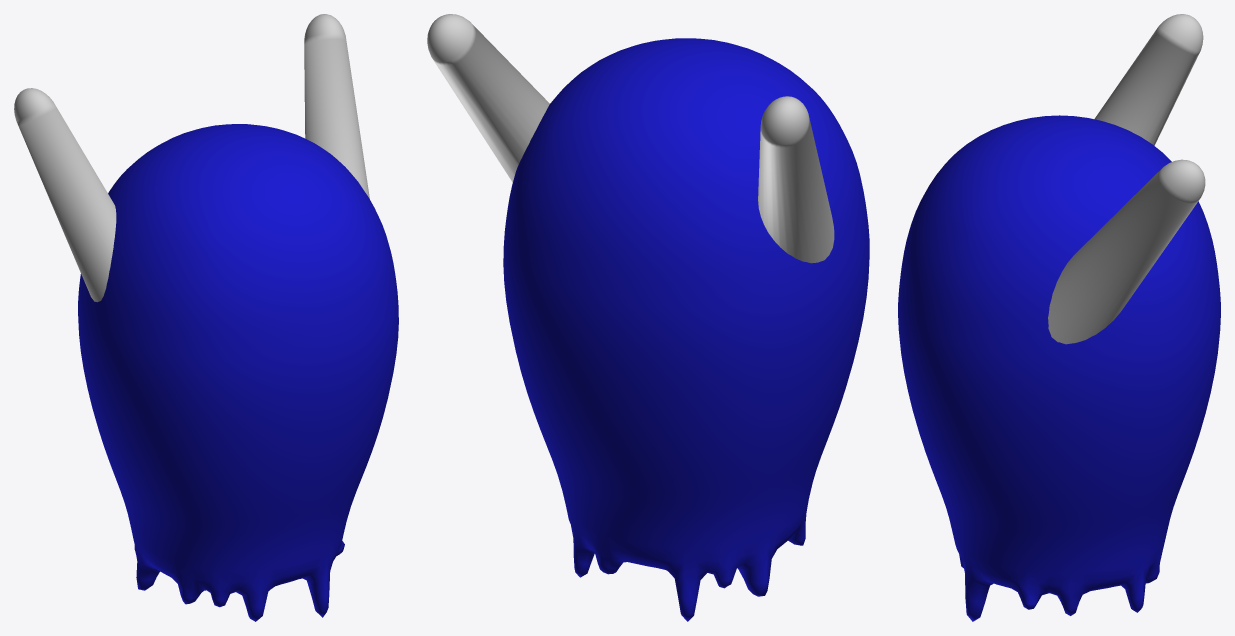
File: afterThrow_00002.obj
The picture shows the model from 3 angles, left to right: view 1: azimuth 30°, elevation 25°; view 2: azimuth 150°, elevation 25°; view 3: azimuth 270°, elevation 25°; orthographic projection. The views are drawn at different scales.
Visible parts, largest first — view 1: Cube, Sphere.001, Sphere; view 2: Cube, Sphere, Sphere.001; view 3: Cube, Sphere, Sphere.001.
Boxes of the visible parts, bbox=[...] form: Cube: bbox=[78, 124, 398, 621]; Sphere.001: bbox=[14, 88, 116, 302]; Sphere: bbox=[304, 14, 369, 198]; Cube: bbox=[503, 38, 869, 621]; Sphere: bbox=[427, 14, 549, 182]; Sphere.001: bbox=[758, 96, 834, 263]; Cube: bbox=[898, 115, 1220, 621]; Sphere: bbox=[1048, 159, 1205, 344]; Sphere.001: bbox=[1094, 14, 1203, 145].
Bounding box in the file's own units: 0.3414 × 0.5016 × 0.2859.
